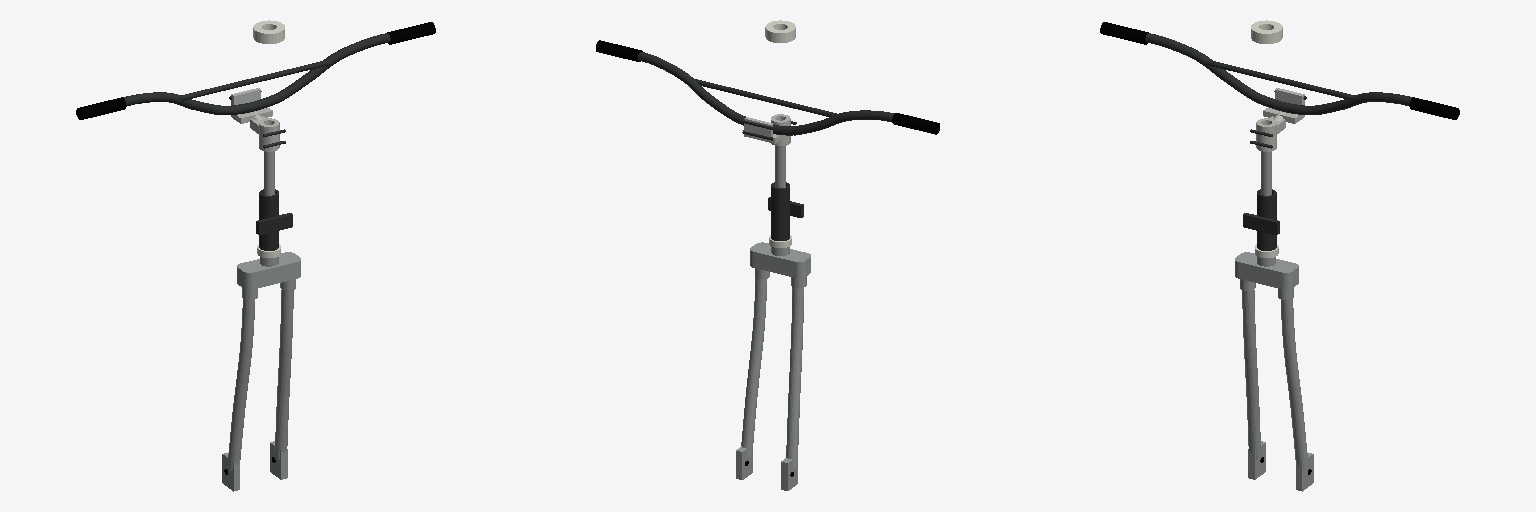
URDF robot description (bmx_fork_cockpit):
<robot name="bmx_fork_cockpit">
  <material name="brushed_crmo">
    <color rgba="0.62 0.64 0.63 1" />
    </material>
  <material name="dark_crmo">
    <color rgba="0.22 0.23 0.23 1" />
    </material>
  <material name="anodized_alloy">
    <color rgba="0.74 0.75 0.73 1" />
    </material>
  <material name="matte_black">
    <color rgba="0.035 0.035 0.035 1" />
    </material>
  <material name="bearing_steel">
    <color rgba="0.86 0.86 0.82 1" />
    </material>
  <link name="head_tube">
    <inertial>
      <mass value="0.9" />
      <inertia ixx="0.00233153" ixy="0" ixz="0" iyy="0.00233153" iyz="0" izz="0.00032805" />
      </inertial>
    <visual name="head_tube_shell">
      <geometry>
        <mesh filename="assets/meshes/head_tube_shell.obj" />
        </geometry>
      <material name="dark_crmo">
        <color rgba="0.22 0.23 0.23 1" />
        </material>
      </visual>
    <visual name="lower_cup">
      <origin xyz="0 0 -0.076" rpy="0 0 0" />
      <geometry>
        <mesh filename="assets/meshes/lower_cup.obj" />
        </geometry>
      <material name="bearing_steel">
        <color rgba="0.86 0.86 0.82 1" />
        </material>
      </visual>
    <visual name="upper_cup">
      <origin xyz="0 0 0.076" rpy="0 0 0" />
      <geometry>
        <mesh filename="assets/meshes/upper_cup.obj" />
        </geometry>
      <material name="bearing_steel">
        <color rgba="0.86 0.86 0.82 1" />
        </material>
      </visual>
    <visual name="short_frame_stub">
      <origin xyz="0 -0.026 0" rpy="0 0 0" />
      <geometry>
        <box size="0.09 0.012 0.032" />
        </geometry>
      <material name="dark_crmo">
        <color rgba="0.22 0.23 0.23 1" />
        </material>
      </visual>
    <collision name="head_tube_shell">
      <geometry>
        <mesh filename="assets/meshes/head_tube_shell.obj" />
        </geometry>
      </collision>
    <collision name="lower_cup">
      <origin xyz="0 0 -0.076" rpy="0 0 0" />
      <geometry>
        <mesh filename="assets/meshes/lower_cup.obj" />
        </geometry>
      </collision>
    <collision name="upper_cup">
      <origin xyz="0 0 0.076" rpy="0 0 0" />
      <geometry>
        <mesh filename="assets/meshes/upper_cup.obj" />
        </geometry>
      </collision>
    <collision name="short_frame_stub">
      <origin xyz="0 -0.026 0" rpy="0 0 0" />
      <geometry>
        <box size="0.09 0.012 0.032" />
        </geometry>
      </collision>
    </link>
  <link name="fork">
    <inertial>
      <origin xyz="0 0.02 -0.235" rpy="0 0 0" />
      <mass value="1.35" />
      <inertia ixx="0.0924863" ixy="0" ixz="0" iyy="0.094005" iyz="0" izz="0.00424125" />
      </inertial>
    <visual name="steerer">
      <origin xyz="0 0 0.04" rpy="0 0 0" />
      <geometry>
        <cylinder radius="0.0127" length="0.36" />
        </geometry>
      <material name="brushed_crmo">
        <color rgba="0.62 0.64 0.63 1" />
        </material>
      </visual>
    <visual name="crmo_fork">
      <geometry>
        <mesh filename="assets/meshes/crmo_fork.obj" />
        </geometry>
      <material name="brushed_crmo">
        <color rgba="0.62 0.64 0.63 1" />
        </material>
      </visual>
    <visual name="crown_race">
      <origin xyz="0 0 -0.092" rpy="0 0 0" />
      <geometry>
        <mesh filename="assets/meshes/crown_race.obj" />
        </geometry>
      <material name="bearing_steel">
        <color rgba="0.86 0.86 0.82 1" />
        </material>
      </visual>
    <visual name="axle_bore_0">
      <origin xyz="-0.062 0.07 -0.642" rpy="0 1.5708 0" />
      <geometry>
        <cylinder radius="0.007" length="0.022" />
        </geometry>
      <material name="matte_black">
        <color rgba="0.035 0.035 0.035 1" />
        </material>
      </visual>
    <visual name="axle_bore_1">
      <origin xyz="0.062 0.07 -0.642" rpy="0 1.5708 0" />
      <geometry>
        <cylinder radius="0.007" length="0.022" />
        </geometry>
      <material name="matte_black">
        <color rgba="0.035 0.035 0.035 1" />
        </material>
      </visual>
    <collision name="steerer">
      <origin xyz="0 0 0.04" rpy="0 0 0" />
      <geometry>
        <cylinder radius="0.0127" length="0.36" />
        </geometry>
      </collision>
    <collision name="crmo_fork">
      <geometry>
        <mesh filename="assets/meshes/crmo_fork.obj" />
        </geometry>
      </collision>
    <collision name="crown_race">
      <origin xyz="0 0 -0.092" rpy="0 0 0" />
      <geometry>
        <mesh filename="assets/meshes/crown_race.obj" />
        </geometry>
      </collision>
    <collision name="axle_bore_0">
      <origin xyz="-0.062 0.07 -0.642" rpy="0 1.5708 0" />
      <geometry>
        <cylinder radius="0.007" length="0.022" />
        </geometry>
      </collision>
    <collision name="axle_bore_1">
      <origin xyz="0.062 0.07 -0.642" rpy="0 1.5708 0" />
      <geometry>
        <cylinder radius="0.007" length="0.022" />
        </geometry>
      </collision>
    </link>
  <link name="stem">
    <inertial>
      <origin xyz="0 0.045 0.02" rpy="0 0 0" />
      <mass value="0.38" />
      <inertia ixx="0.000791667" ixy="0" ixz="0" iyy="0.000513" iyz="0" izz="0.000791667" />
      </inertial>
    <visual name="alloy_stem">
      <geometry>
        <mesh filename="assets/meshes/alloy_stem.obj" />
        </geometry>
      <material name="anodized_alloy">
        <color rgba="0.74 0.75 0.73 1" />
        </material>
      </visual>
    <visual name="stem_web">
      <origin xyz="0 0.034 0.01" rpy="0 0 0" />
      <geometry>
        <box size="0.036 0.04 0.022" />
        </geometry>
      <material name="anodized_alloy">
        <color rgba="0.74 0.75 0.73 1" />
        </material>
      </visual>
    <visual name="lower_bar_saddle">
      <origin xyz="0 0.078 0.0215" rpy="0 0 0" />
      <geometry>
        <box size="0.084 0.044 0.014" />
        </geometry>
      <material name="anodized_alloy">
        <color rgba="0.74 0.75 0.73 1" />
        </material>
      </visual>
    <visual name="faceplate">
      <origin xyz="0 0.104 0.044" rpy="0 0 0" />
      <geometry>
        <box size="0.072 0.011 0.044" />
        </geometry>
      <material name="anodized_alloy">
        <color rgba="0.74 0.75 0.73 1" />
        </material>
      </visual>
    <visual name="faceplate_bolt_0">
      <origin xyz="0 0.108 0.03" rpy="0 1.5708 0" />
      <geometry>
        <cylinder radius="0.0042" length="0.08" />
        </geometry>
      <material name="dark_crmo">
        <color rgba="0.22 0.23 0.23 1" />
        </material>
      </visual>
    <visual name="steerer_bolt_0">
      <origin xyz="0 -0.024 -0.014" rpy="0 1.5708 0" />
      <geometry>
        <cylinder radius="0.0036" length="0.056" />
        </geometry>
      <material name="dark_crmo">
        <color rgba="0.22 0.23 0.23 1" />
        </material>
      </visual>
    <visual name="faceplate_bolt_1">
      <origin xyz="0 0.108 0.058" rpy="0 1.5708 0" />
      <geometry>
        <cylinder radius="0.0042" length="0.08" />
        </geometry>
      <material name="dark_crmo">
        <color rgba="0.22 0.23 0.23 1" />
        </material>
      </visual>
    <visual name="steerer_bolt_1">
      <origin xyz="0 -0.024 0.014" rpy="0 1.5708 0" />
      <geometry>
        <cylinder radius="0.0036" length="0.056" />
        </geometry>
      <material name="dark_crmo">
        <color rgba="0.22 0.23 0.23 1" />
        </material>
      </visual>
    <collision name="alloy_stem">
      <geometry>
        <mesh filename="assets/meshes/alloy_stem.obj" />
        </geometry>
      </collision>
    <collision name="stem_web">
      <origin xyz="0 0.034 0.01" rpy="0 0 0" />
      <geometry>
        <box size="0.036 0.04 0.022" />
        </geometry>
      </collision>
    <collision name="lower_bar_saddle">
      <origin xyz="0 0.078 0.0215" rpy="0 0 0" />
      <geometry>
        <box size="0.084 0.044 0.014" />
        </geometry>
      </collision>
    <collision name="faceplate">
      <origin xyz="0 0.104 0.044" rpy="0 0 0" />
      <geometry>
        <box size="0.072 0.011 0.044" />
        </geometry>
      </collision>
    <collision name="faceplate_bolt_0">
      <origin xyz="0 0.108 0.03" rpy="0 1.5708 0" />
      <geometry>
        <cylinder radius="0.0042" length="0.08" />
        </geometry>
      </collision>
    <collision name="steerer_bolt_0">
      <origin xyz="0 -0.024 -0.014" rpy="0 1.5708 0" />
      <geometry>
        <cylinder radius="0.0036" length="0.056" />
        </geometry>
      </collision>
    <collision name="faceplate_bolt_1">
      <origin xyz="0 0.108 0.058" rpy="0 1.5708 0" />
      <geometry>
        <cylinder radius="0.0042" length="0.08" />
        </geometry>
      </collision>
    <collision name="steerer_bolt_1">
      <origin xyz="0 -0.024 0.014" rpy="0 1.5708 0" />
      <geometry>
        <cylinder radius="0.0036" length="0.056" />
        </geometry>
      </collision>
    </link>
  <link name="riser_bar">
    <inertial>
      <origin xyz="0 -0.006 0.05" rpy="0 0 0" />
      <mass value="0.85" />
      <inertia ixx="0.00164333" ixy="0" ixz="0" iyy="0.0537767" iyz="0" izz="0.0526433" />
      </inertial>
    <visual name="main_bar">
      <geometry>
        <mesh filename="assets/meshes/main_bar.obj" />
        </geometry>
      <material name="dark_crmo">
        <color rgba="0.22 0.23 0.23 1" />
        </material>
      </visual>
    <visual name="crossbar">
      <geometry>
        <mesh filename="assets/meshes/crossbar.obj" />
        </geometry>
      <material name="dark_crmo">
        <color rgba="0.22 0.23 0.23 1" />
        </material>
      </visual>
    <visual name="grip_0">
      <origin xyz="-0.405 -0.018 0.092" rpy="0 1.5708 0" />
      <geometry>
        <cylinder radius="0.0145" length="0.115" />
        </geometry>
      <material name="matte_black">
        <color rgba="0.035 0.035 0.035 1" />
        </material>
      </visual>
    <visual name="grip_1">
      <origin xyz="0.405 -0.018 0.092" rpy="0 1.5708 0" />
      <geometry>
        <cylinder radius="0.0145" length="0.115" />
        </geometry>
      <material name="matte_black">
        <color rgba="0.035 0.035 0.035 1" />
        </material>
      </visual>
    <collision name="main_bar">
      <geometry>
        <mesh filename="assets/meshes/main_bar.obj" />
        </geometry>
      </collision>
    <collision name="crossbar">
      <geometry>
        <mesh filename="assets/meshes/crossbar.obj" />
        </geometry>
      </collision>
    <collision name="grip_0">
      <origin xyz="-0.405 -0.018 0.092" rpy="0 1.5708 0" />
      <geometry>
        <cylinder radius="0.0145" length="0.115" />
        </geometry>
      </collision>
    <collision name="grip_1">
      <origin xyz="0.405 -0.018 0.092" rpy="0 1.5708 0" />
      <geometry>
        <cylinder radius="0.0145" length="0.115" />
        </geometry>
      </collision>
    </link>
  <joint name="steering" type="revolute">
    <parent link="head_tube" />
    <child link="fork" />
    <axis xyz="0 0 1" />
    <limit effort="12" velocity="3" lower="-1.39626" upper="1.39626" />
    </joint>
  <joint name="stem_mount" type="fixed">
    <origin xyz="0 0 0.212" rpy="0 0 0" />
    <parent link="fork" />
    <child link="stem" />
    </joint>
  <joint name="bar_clamp" type="fixed">
    <origin xyz="0 0.078 0.044" rpy="0 0 0" />
    <parent link="stem" />
    <child link="riser_bar" />
    </joint>
  </robot>

--- Facts derived from the render (not from the file) ---
Views: 3 orthographic renders of the robot side by side, from view 1: azimuth 30°, elevation 25°; view 2: azimuth 150°, elevation 25°; view 3: azimuth 330°, elevation 25°.
Model bmx_fork_cockpit with 4 links and 3 joints (1 revolute, 2 fixed), rooted at head_tube, posed every joint at zero.
Links seen in each view (by area): view 1: fork, riser_bar, head_tube, stem; view 2: fork, riser_bar, head_tube, stem; view 3: fork, riser_bar, head_tube, stem.
Boxes of the visible links, x1=… form: fork: x1=222, y1=151, x2=300, y2=491; riser_bar: x1=76, y1=22, x2=435, y2=119; head_tube: x1=253, y1=20, x2=292, y2=257; stem: x1=229, y1=88, x2=285, y2=151; fork: x1=736, y1=146, x2=810, y2=490; riser_bar: x1=596, y1=40, x2=939, y2=135; head_tube: x1=765, y1=20, x2=803, y2=247; stem: x1=742, y1=114, x2=796, y2=145; fork: x1=1235, y1=151, x2=1313, y2=491; riser_bar: x1=1100, y1=22, x2=1459, y2=119; head_tube: x1=1243, y1=20, x2=1282, y2=257; stem: x1=1250, y1=88, x2=1306, y2=151.
Bounding box of the posed robot: 0.925 × 0.1482 × 1.16 m (x, y, z).
8 mesh visuals loaded from 8 distinct referenced files (8 OBJ).
